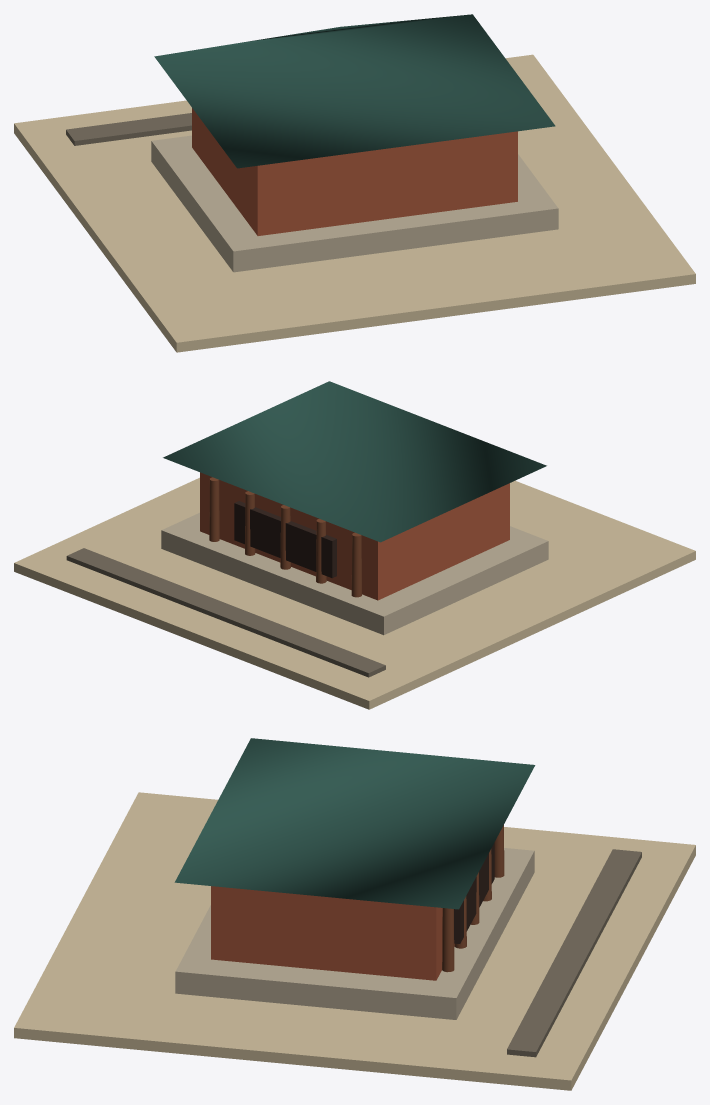
File: model-medium.glb
3 views of the same model, one above another, from view 1: azimuth 30°, elevation 25°; view 2: azimuth 150°, elevation 25°; view 3: azimuth 270°, elevation 25° (orthographic). The views are drawn at different scales.
Visible parts, largest first — view 1: context_site_plinth, sweeping_tiled_roof, main_hall_wall_volume, raised_ceremonial_platform, front_scale_strip; view 2: context_site_plinth, sweeping_tiled_roof, raised_ceremonial_platform, main_hall_wall_volume, front_scale_strip, central_shadow_door, front_column_5, front_column_1; view 3: context_site_plinth, sweeping_tiled_roof, main_hall_wall_volume, raised_ceremonial_platform, front_scale_strip, central_shadow_door, front_column_5.
Part boxes in pixels (x1,y1,x2,y2): context_site_plinth: (14, 54, 695, 352); sweeping_tiled_roof: (154, 14, 555, 168); main_hall_wall_volume: (192, 108, 517, 235); raised_ceremonial_platform: (151, 135, 558, 272); front_scale_strip: (66, 113, 191, 145); context_site_plinth: (14, 477, 695, 709); sweeping_tiled_roof: (163, 381, 546, 542); raised_ceremonial_platform: (161, 512, 548, 635); main_hall_wall_volume: (200, 472, 509, 600); front_scale_strip: (66, 548, 385, 677); central_shadow_door: (234, 501, 336, 578); front_column_5: (209, 477, 219, 541); front_column_1: (351, 532, 361, 597); context_site_plinth: (14, 792, 695, 1090); sweeping_tiled_roof: (174, 738, 535, 909); main_hall_wall_volume: (211, 886, 454, 980); raised_ceremonial_platform: (175, 848, 534, 1019); front_scale_strip: (507, 849, 641, 1057); central_shadow_door: (454, 842, 494, 943); front_column_5: (442, 908, 454, 972).
Bounding box in the file's own units: 9.55 × 2.62 × 9.55.
